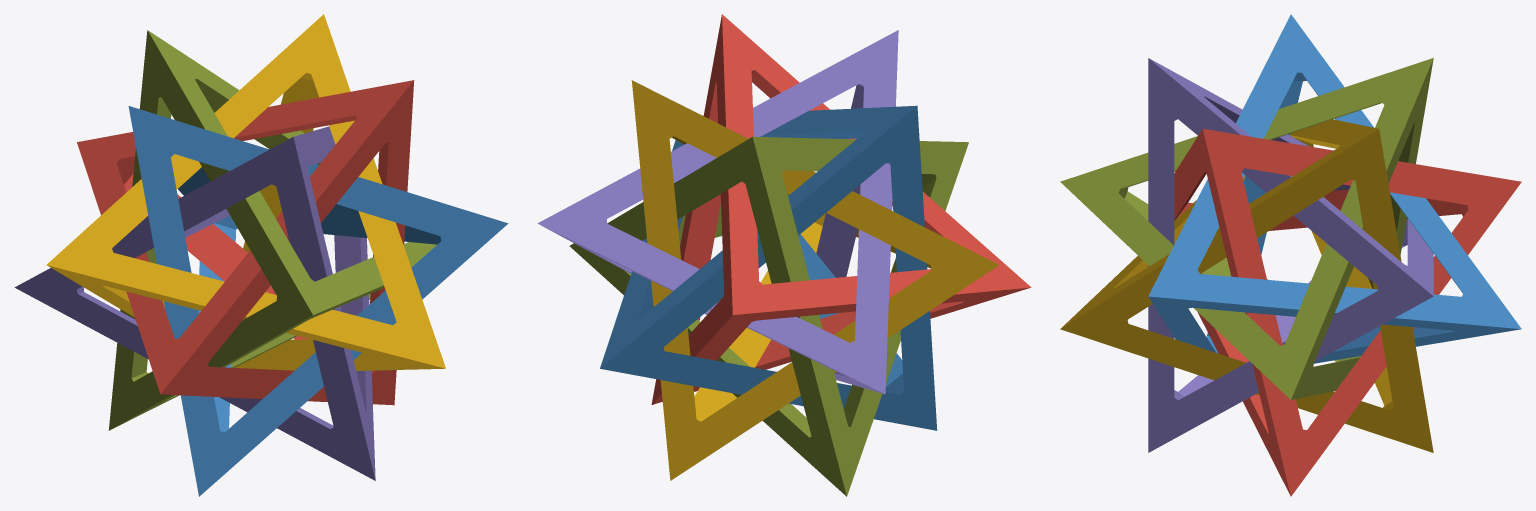
File: fit-5.glb
3 views of the same model, side by side, from view 1: azimuth 30°, elevation 25°; view 2: azimuth 150°, elevation 25°; view 3: azimuth 270°, elevation 25° (orthographic). The views are drawn at different scales.
Visible parts, largest first — view 1: fit.002, fit.005, fit.004, fit.001, fit.003; view 2: fit.004, fit.002, fit.001, fit.003, fit.005; view 3: fit.005, fit.004, fit.002, fit.003, fit.001.
Part boxes in pixels (x1,y1,x2,y2): fit.002: (46,14,445,370); fit.005: (77,80,414,405); fit.004: (128,106,508,496); fit.001: (14,126,375,480); fit.003: (108,30,436,430); fit.004: (600,105,937,430); fit.002: (631,80,998,480); fit.001: (537,30,898,394); fit.003: (569,136,968,496); fit.005: (651,14,1031,404); fit.005: (1174,129,1521,496); fit.004: (1148,14,1521,363); fit.002: (1060,119,1433,452); fit.003: (1060,58,1433,399); fit.001: (1148,58,1433,452).
Bounding box in the file's own units: 6.01 × 4.87 × 5.72.
